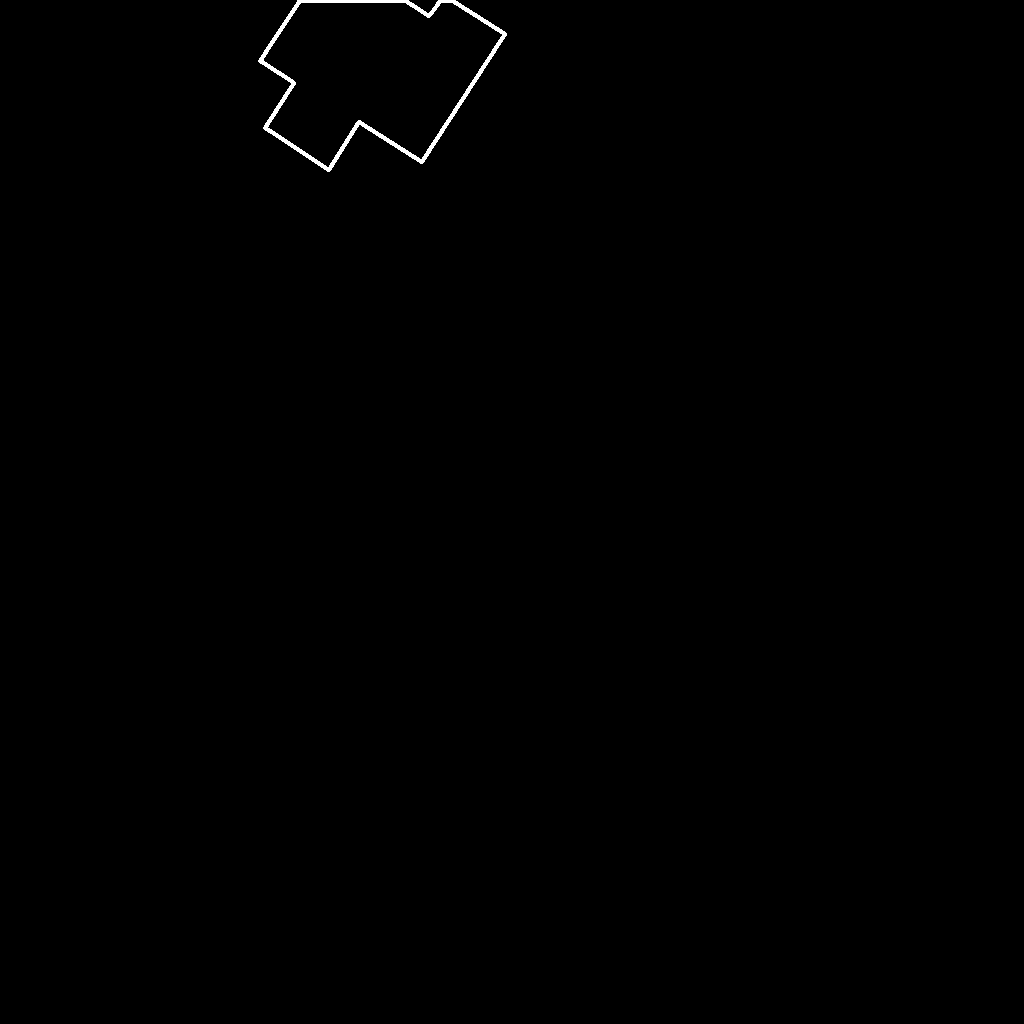building: (260, 0, 506, 171)
